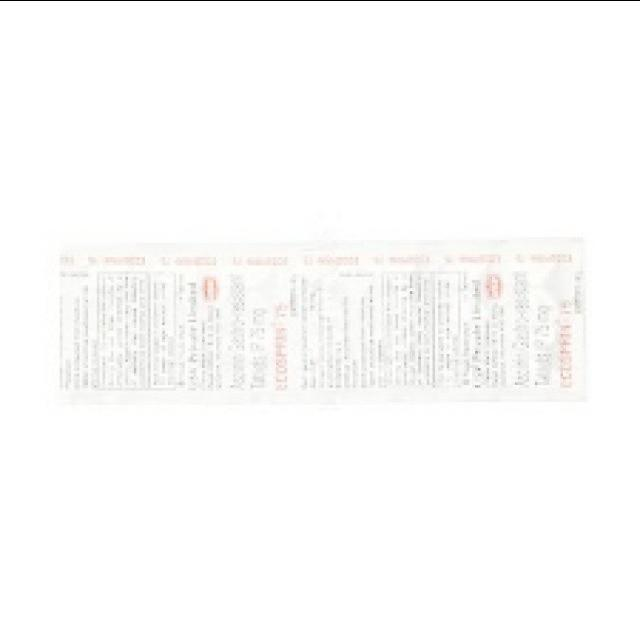authentic: (45, 224, 598, 418)
